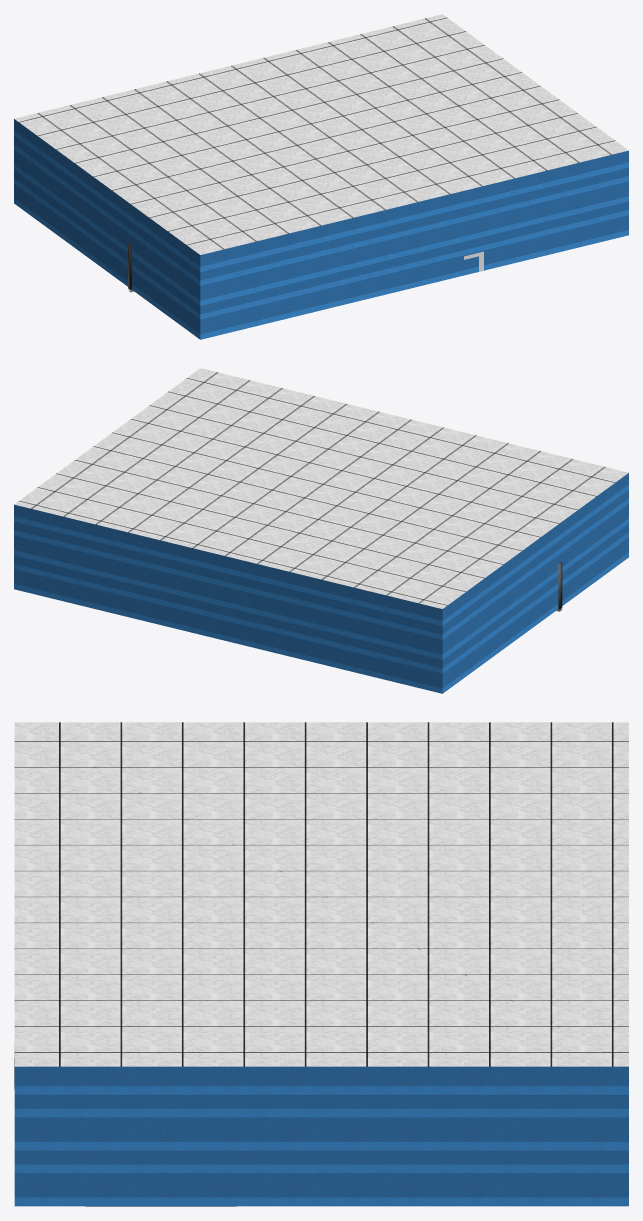
Rendered from store1.obj.
3 renders of one model, top to bottom at view 1: azimuth 30°, elevation 25°; view 2: azimuth 150°, elevation 25°; view 3: azimuth 270°, elevation 25°, orthographic. The views are drawn at different scales.
Parts seen in each view (by area): view 1: Plane; view 2: Plane; view 3: Plane.
Part boxes in pixels (x1=…): Plane: x1=14, y1=14, x2=628, y2=339; Plane: x1=14, y1=368, x2=628, y2=693; Plane: x1=14, y1=722, x2=628, y2=1206.
Size of the model in its own units: 21.31 by 4.12 by 16.02.
Materials: 16 (16 with a texture image).
